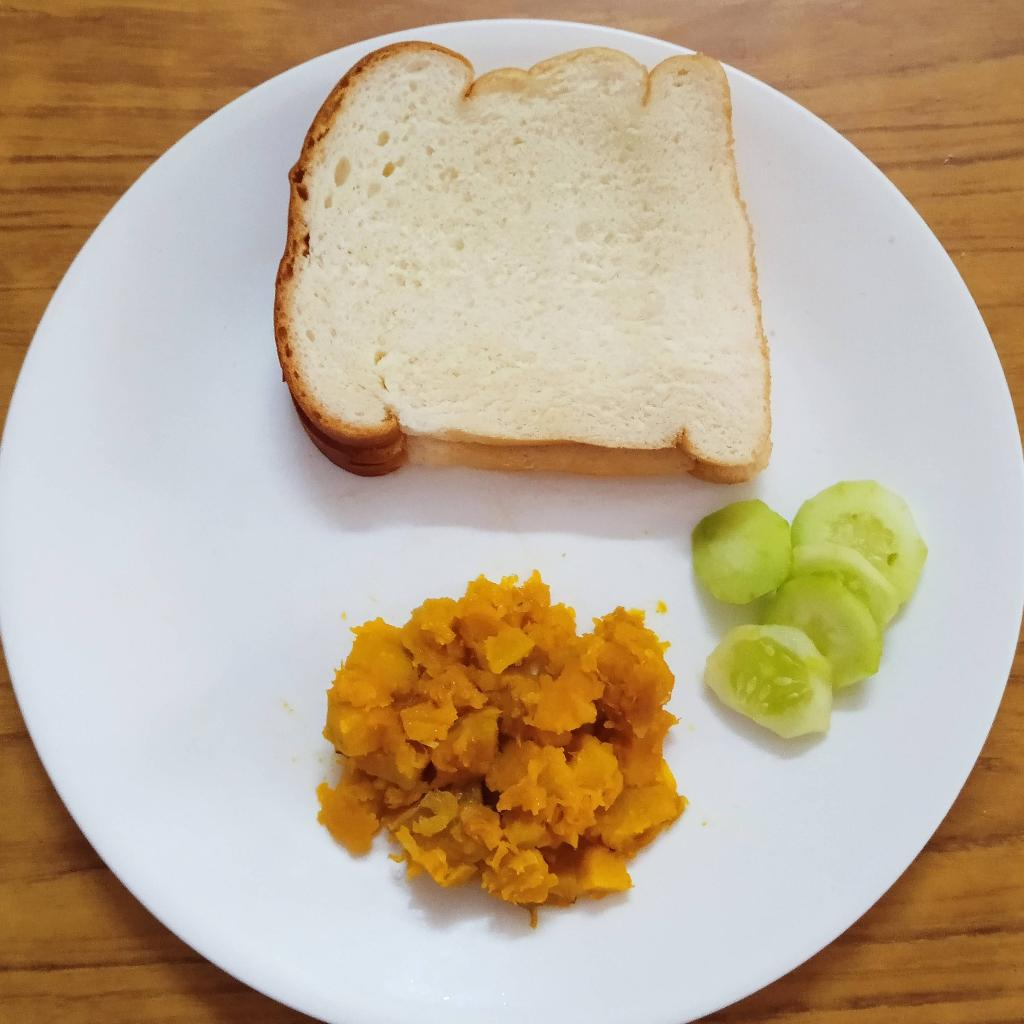bread: (272, 37, 773, 492)
cucumber: (690, 475, 921, 742)
kumra-vaji: (325, 575, 684, 900)
